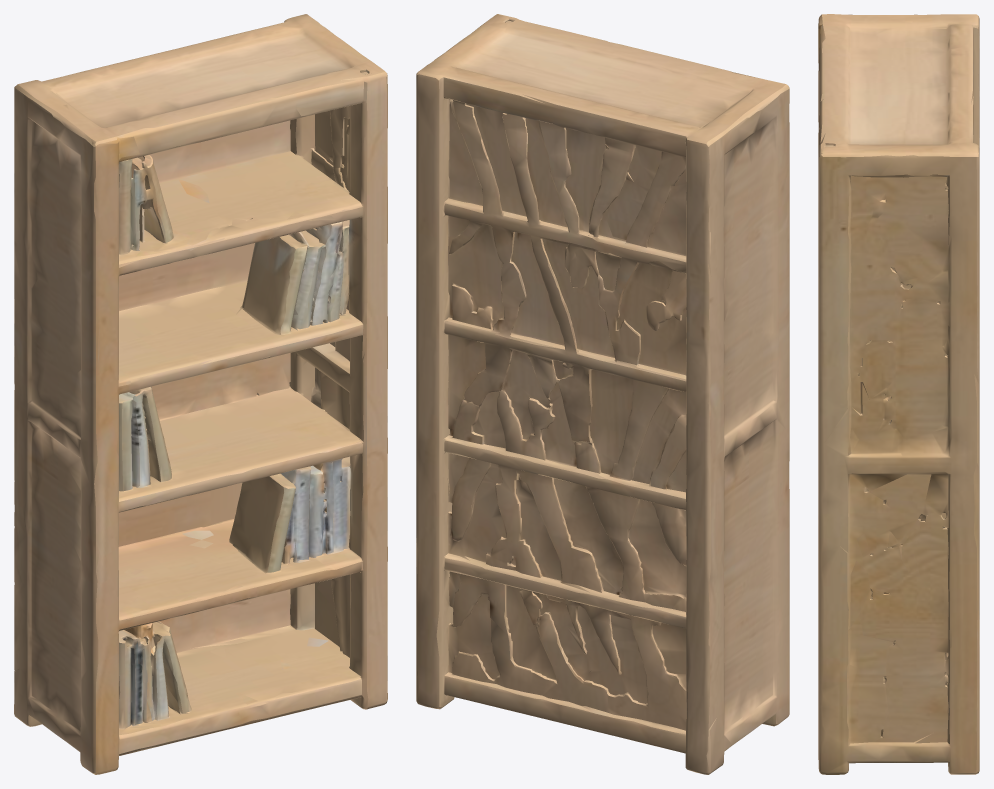
Rendered from L_BOOKSHELF.japandi.glb.
3 views of the same model, side by side, from view 1: azimuth 30°, elevation 25°; view 2: azimuth 150°, elevation 25°; view 3: azimuth 270°, elevation 25° (orthographic).
Parts seen in each view (by area): view 1: geometry_0; view 2: geometry_0; view 3: geometry_0.
Part boxes in pixels (x1,y1,x2,y2): geometry_0: (14,14,387,774); geometry_0: (416,14,789,774); geometry_0: (818,14,979,774).
Bounding box in the file's own units: 0.8787 × 1.8 × 0.4237.
1 material, 1 textured.
